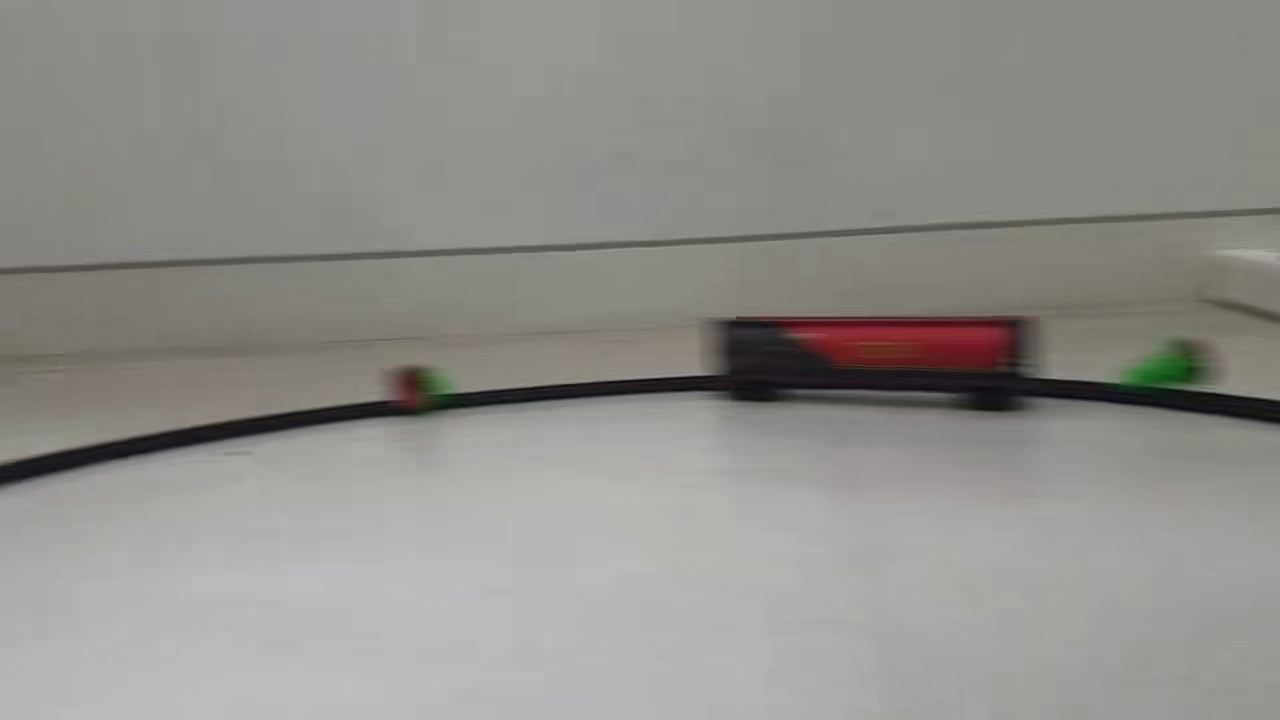tree: (1110, 337, 1219, 394), (372, 362, 450, 405)
